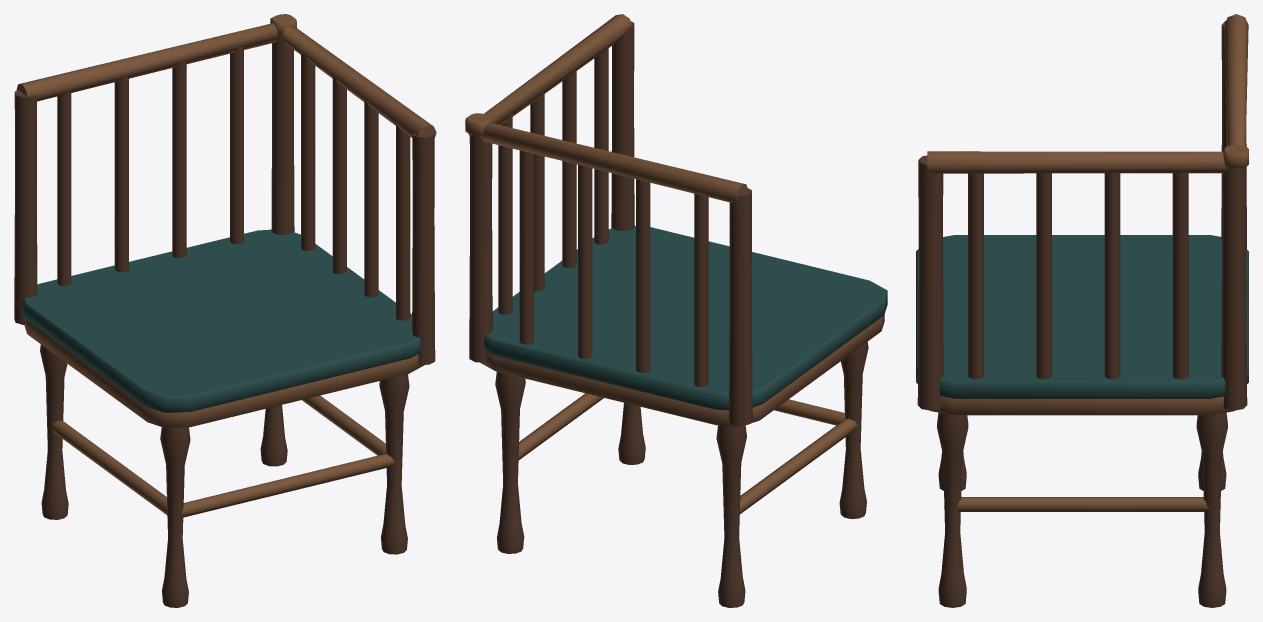
Rendered from rpg-mansion-corner-01.glb.
3 renders of one model, left to right at view 1: azimuth 30°, elevation 25°; view 2: azimuth 150°, elevation 25°; view 3: azimuth 270°, elevation 25°, orthographic. The views are drawn at different scales.
Visible parts, largest first — view 1: rpg-mansion-corner-01; view 2: rpg-mansion-corner-01; view 3: rpg-mansion-corner-01.
Boxes of the visible parts, <box> form: rpg-mansion-corner-01: <box>14,14,436,607</box>; rpg-mansion-corner-01: <box>465,14,887,607</box>; rpg-mansion-corner-01: <box>916,14,1248,607</box>.
Size of the model in its own units: 0.617 by 0.902 by 0.587.
